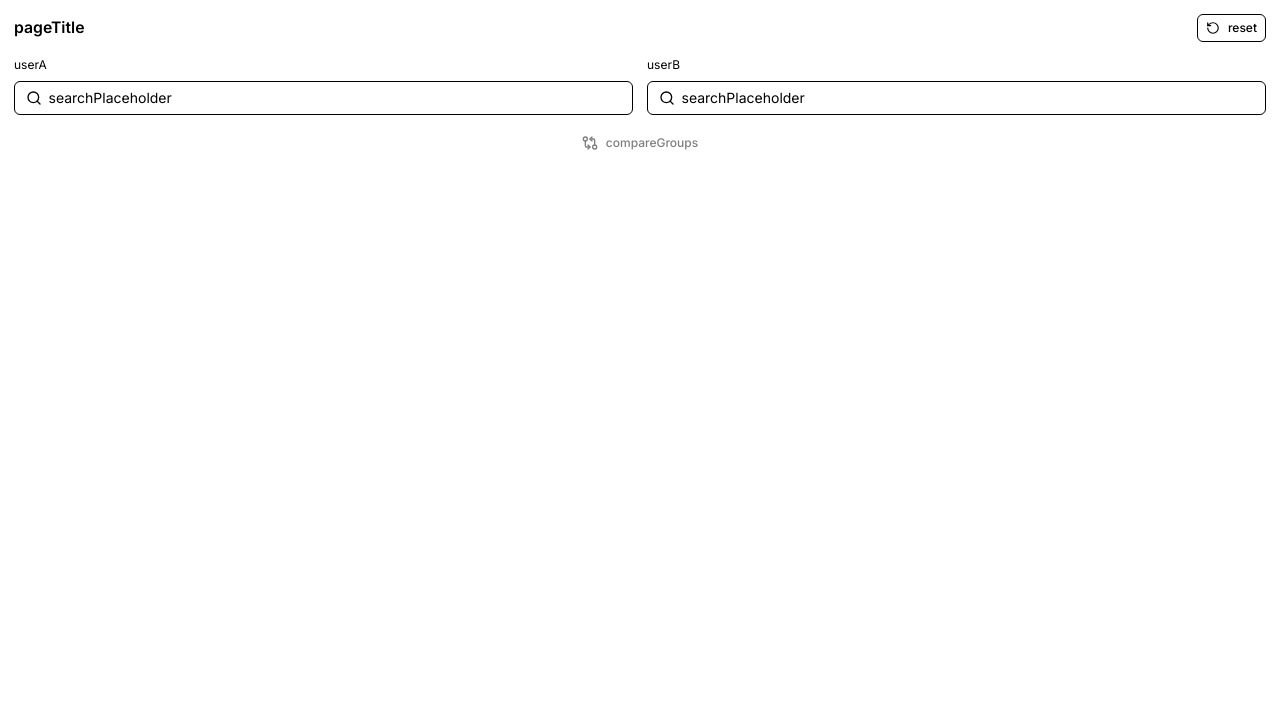
UserComparison › filters groups by text input
This screenshot has width=1280, height=720.
Type "jdoe" into the field with test id "user-a-input". click: coordinates (335, 98)
box: [48,87,622,108]
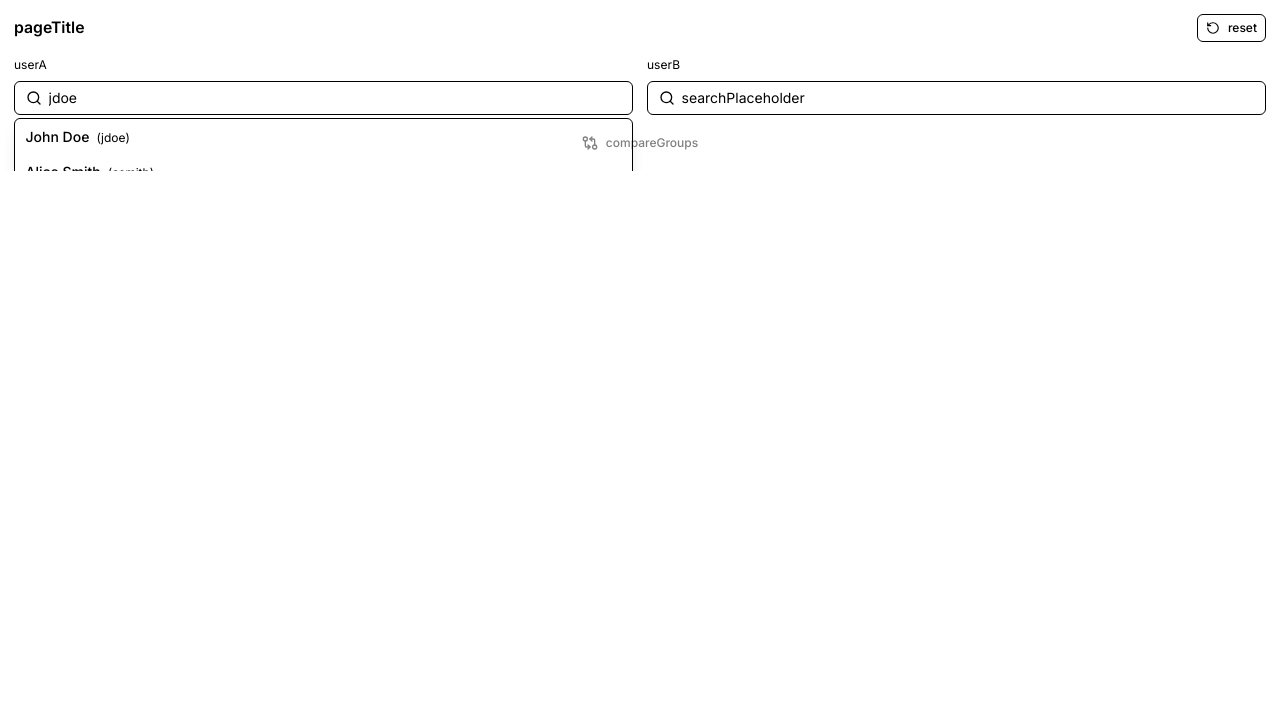
Check: the element with test id "user-a-dropdown" is shown, box [14,118,633,170]
Press the mouse on the button with test id "user-a-result-jdoe" at coordinates (57, 136), box [15,119,632,154]
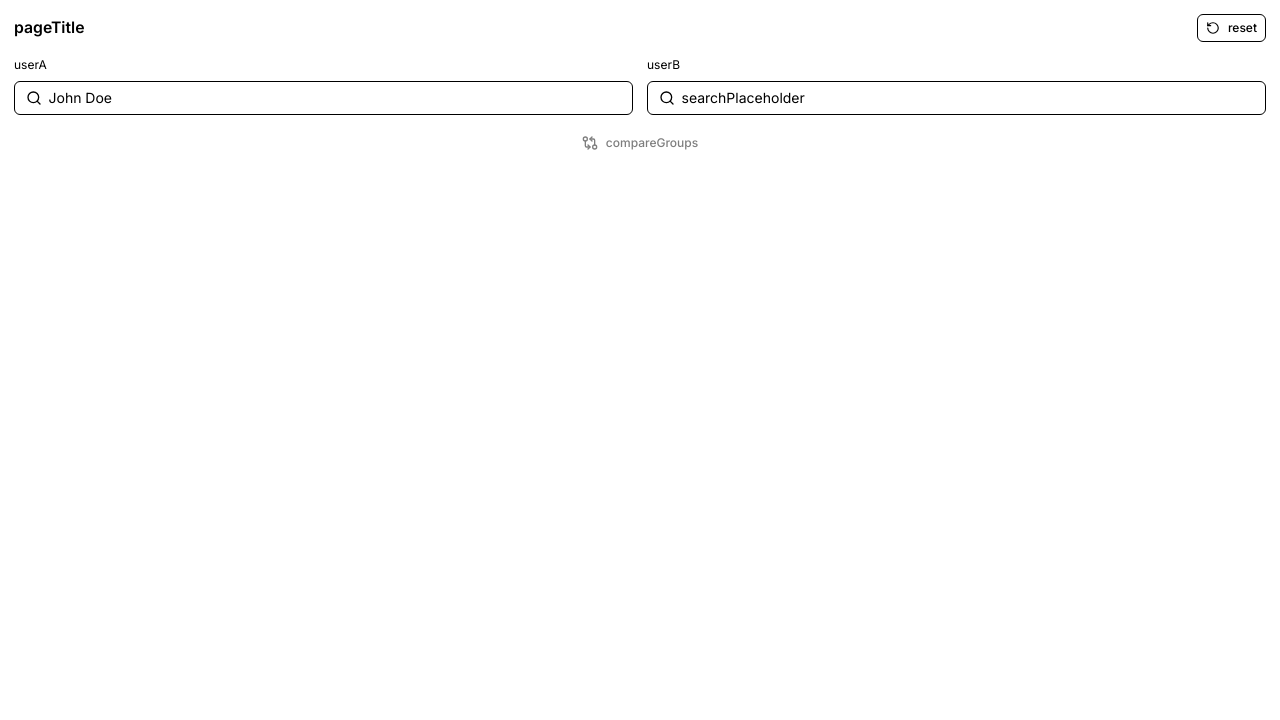
Type "asmith" into the field with test id "user-b-input". click: coordinates (968, 98)
box: [682,87,1254,108]
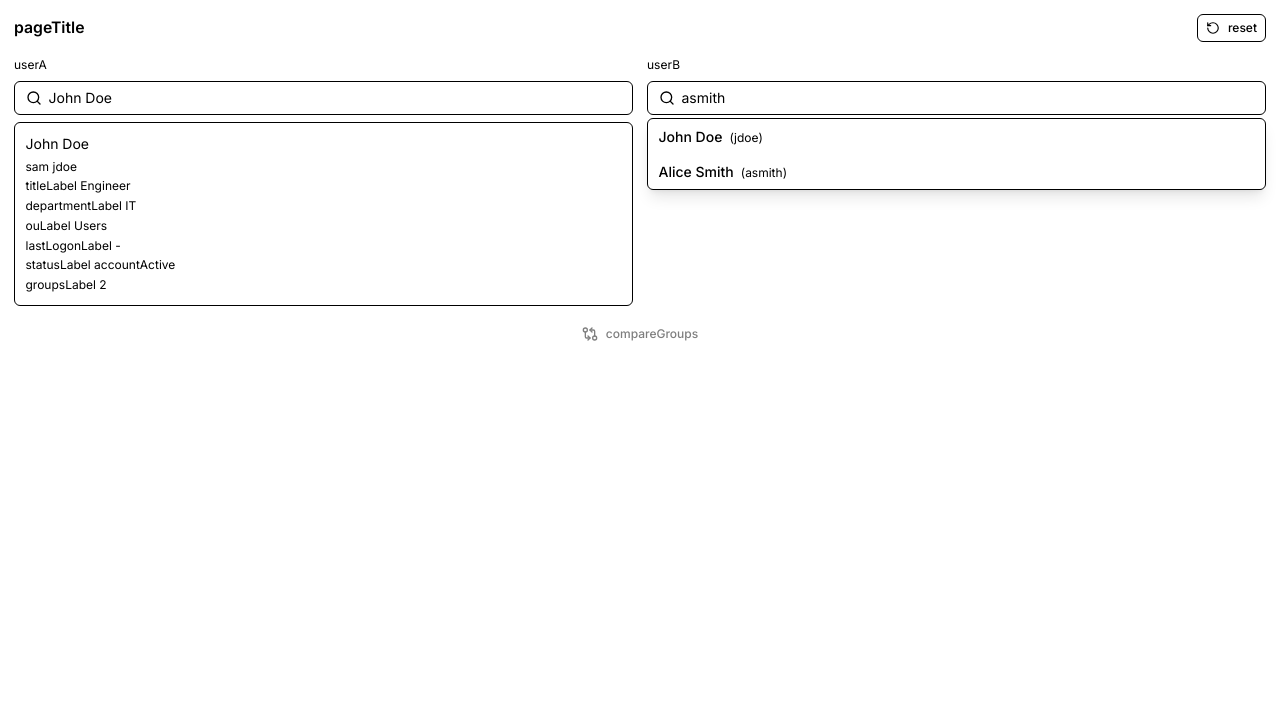
Check: the element with test id "user-b-dropdown" is shown, box [647,118,1266,190]
Press the mouse on the button with test id "user-b-result-asmith" at coordinates (696, 172), box [648,154,1265,189]
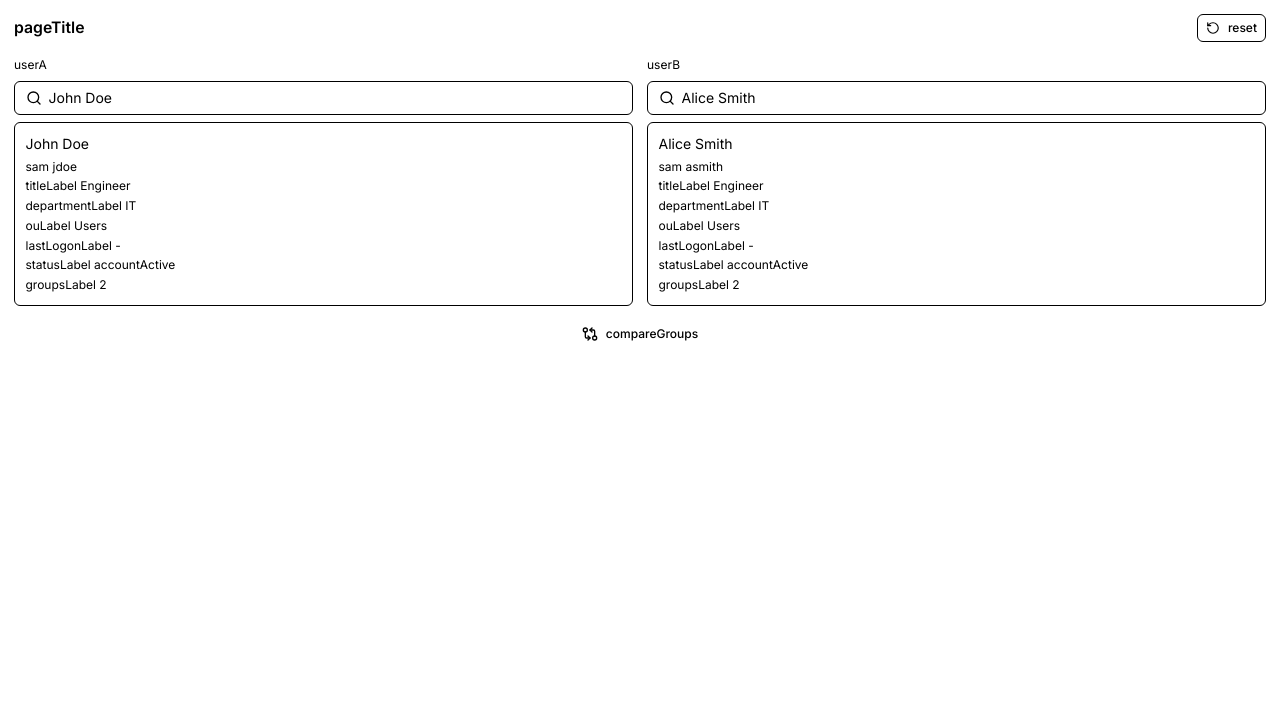
Check: the element with test id "user-a-selected" is shown, box [14,122,633,306]
Check: the element with test id "user-b-selected" is shown, box [647,122,1266,306]
Click the button with test id "compare-button". click: coordinates (640, 334)
box: [573,320,707,348]
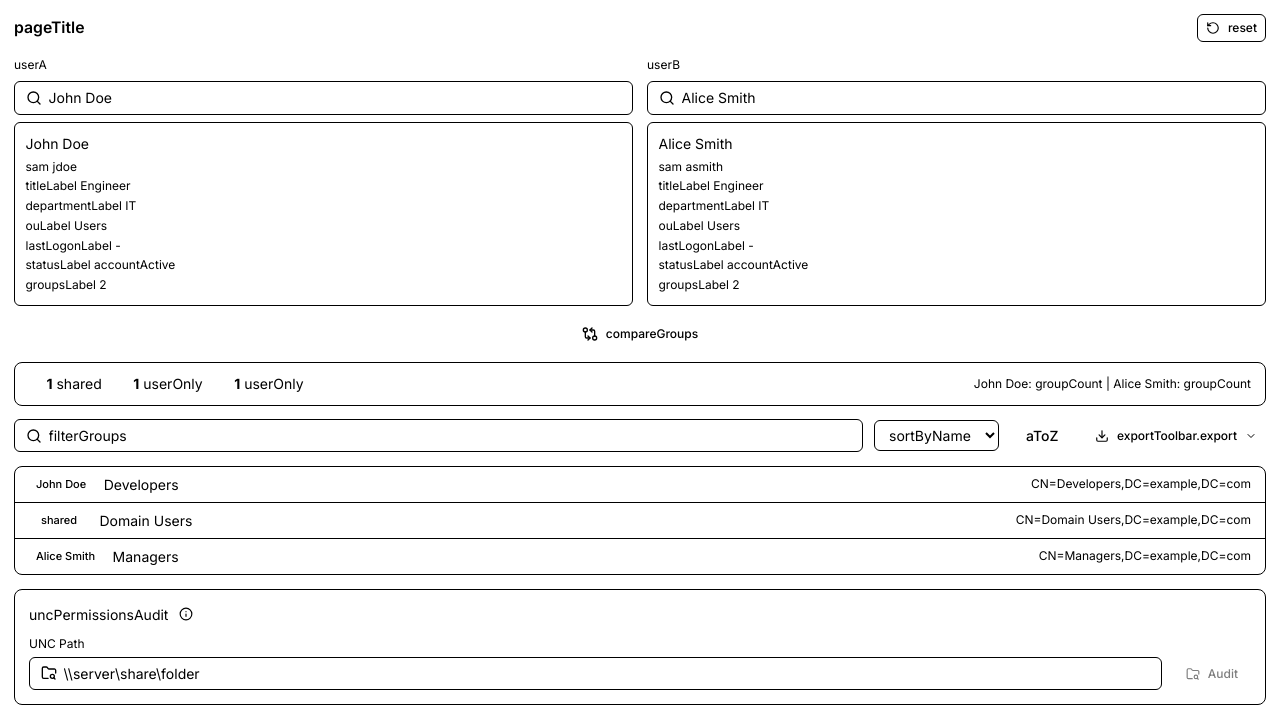
Check: the element with test id "comparison-results" is shown, box [14,362,1266,574]
Type "Developers" into the field with test id "group-filter". click: coordinates (450, 436)
box: [48,425,852,446]
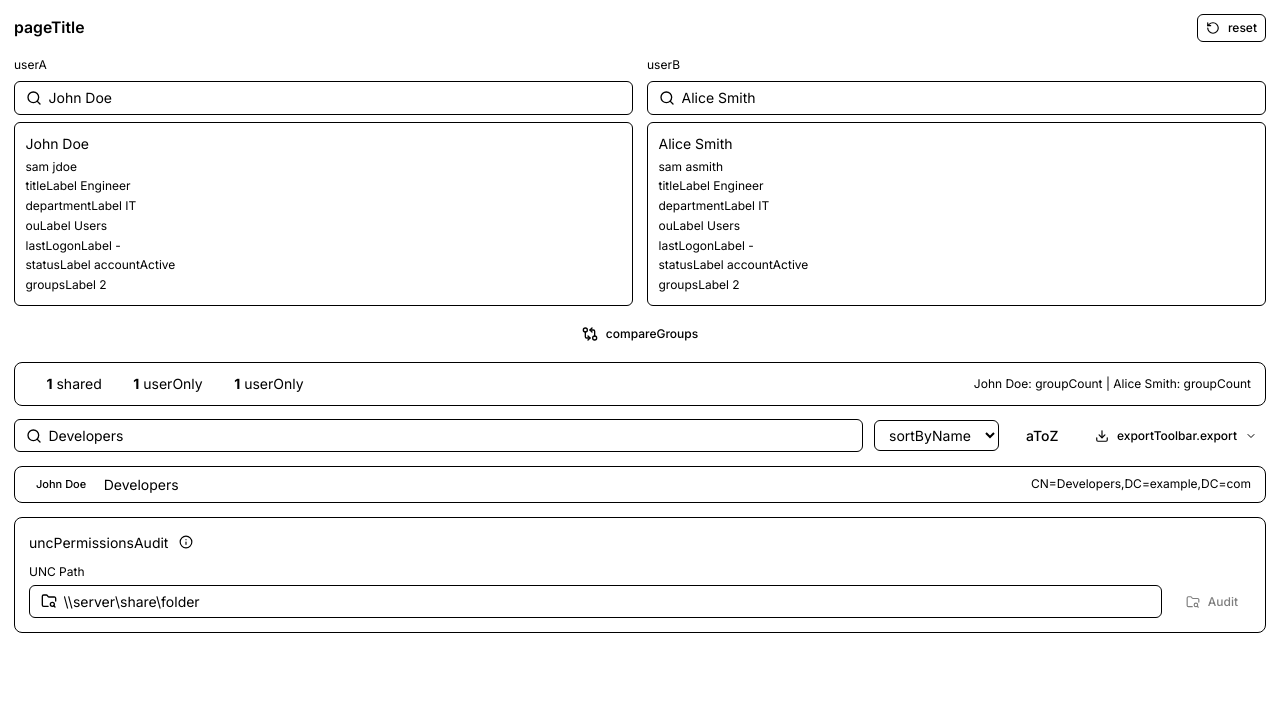
Check: the element with test id "group-item-0" is shown, box [36,476,1251,492]
Check: the element with test id "group-item-1" is gone
